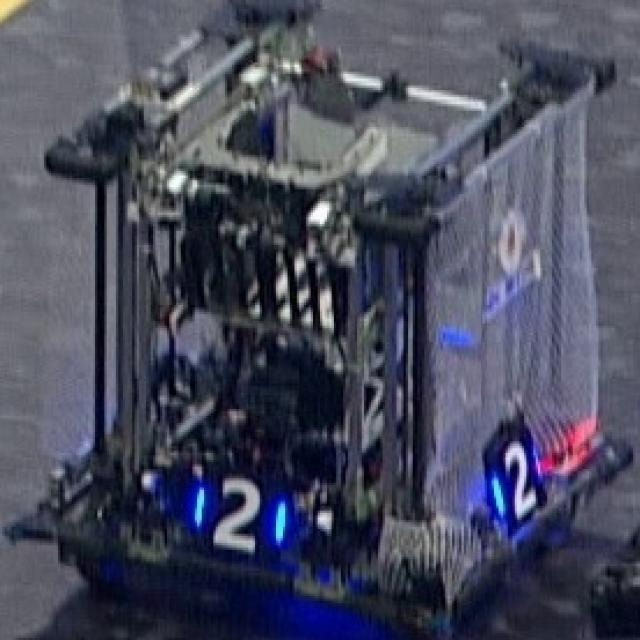B2: (192, 476, 290, 548), (485, 434, 547, 522)
